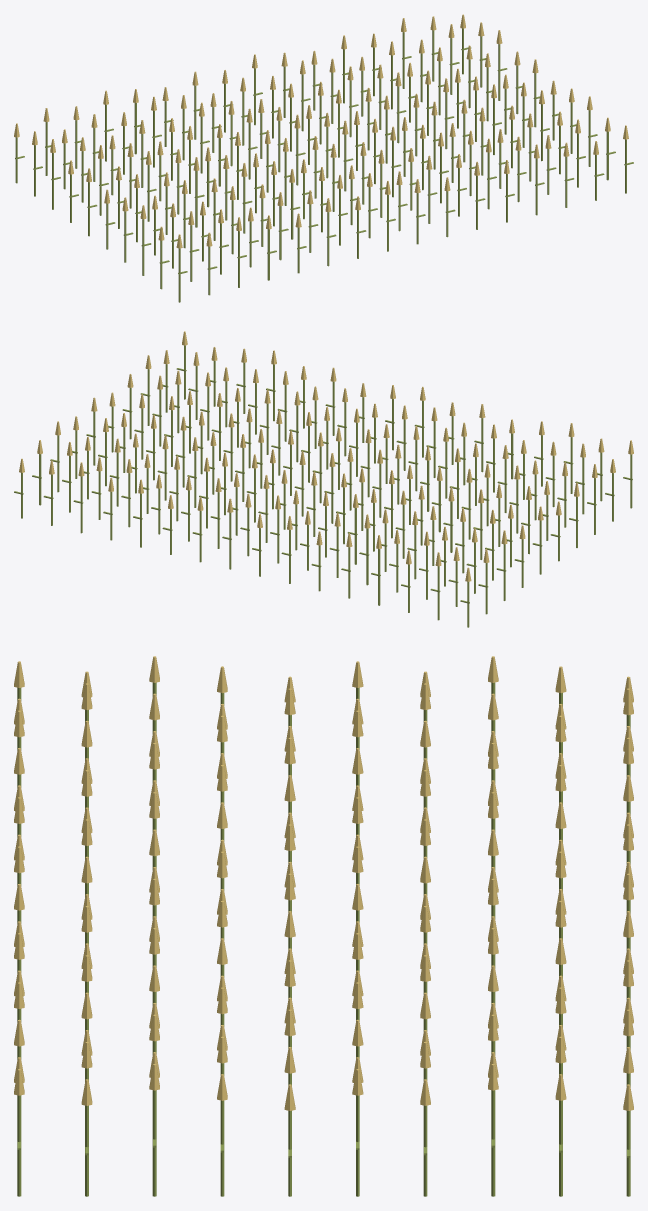
3 renders of one model, top to bottom at view 1: azimuth 30°, elevation 25°; view 2: azimuth 150°, elevation 25°; view 3: azimuth 270°, elevation 25°, orthographic. The views are drawn at different scales.
Visible parts, largest first — view 1: Bergfried – Steine, Säulen, Ziegel und Feuerstelle; view 2: Bergfried – Steine, Säulen, Ziegel und Feuerstelle; view 3: Bergfried – Steine, Säulen, Ziegel und Feuerstelle.
Boxes of the visible parts, box(x1,y1,x2,y2) form: Bergfried – Steine, Säulen, Ziegel und Feuerstelle: box(14, 14, 633, 302); Bergfried – Steine, Säulen, Ziegel und Feuerstelle: box(14, 331, 633, 627); Bergfried – Steine, Säulen, Ziegel und Feuerstelle: box(14, 656, 633, 1196).
Size of the model in its own units: 875 by 128 by 550.
